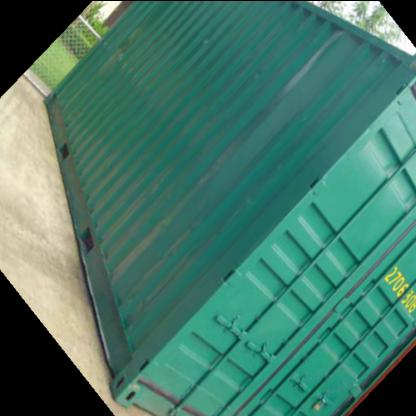Damage: (278, 24, 345, 98), (100, 33, 160, 92), (250, 63, 272, 87)
